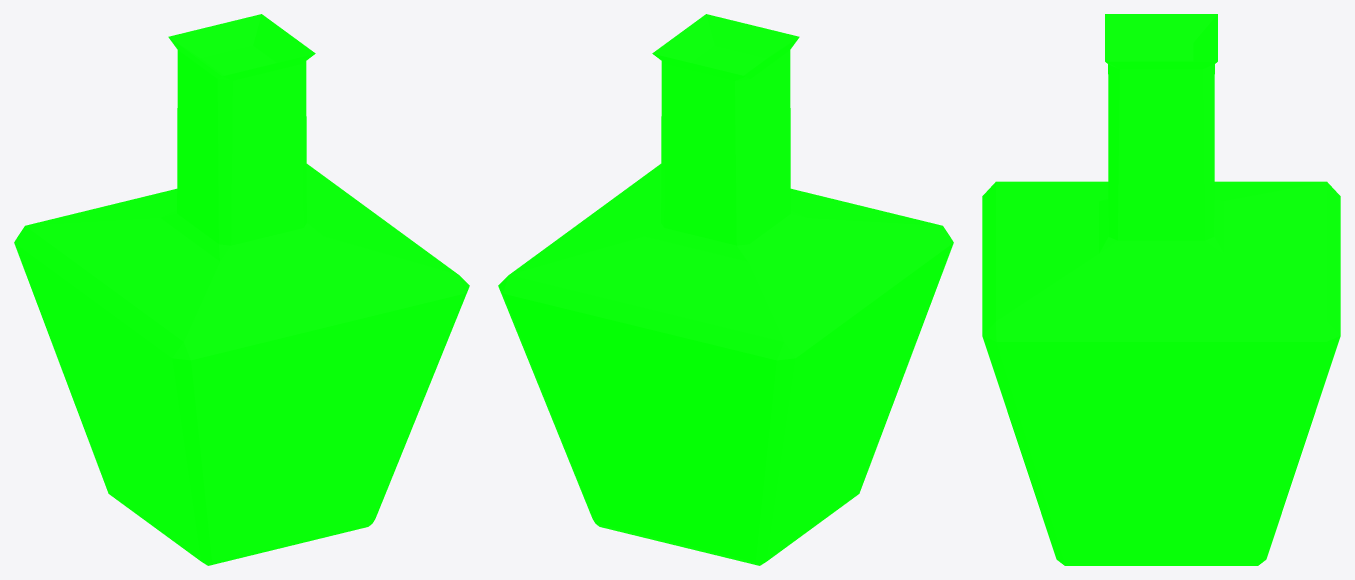
Rendered from Health Pot.fbx.
3 views of the same model, side by side, from view 1: azimuth 30°, elevation 25°; view 2: azimuth 150°, elevation 25°; view 3: azimuth 270°, elevation 25° (orthographic). The views are drawn at different scales.
Visible parts, largest first — view 1: Heath Pot; view 2: Heath Pot; view 3: Heath Pot.
Boxes of the visible parts, <box> form: Heath Pot: <box>14,14,469,565</box>; Heath Pot: <box>498,14,953,565</box>; Heath Pot: <box>982,14,1340,565</box>.
Size of the model in its own units: 11.9 by 17.85 by 11.9.
